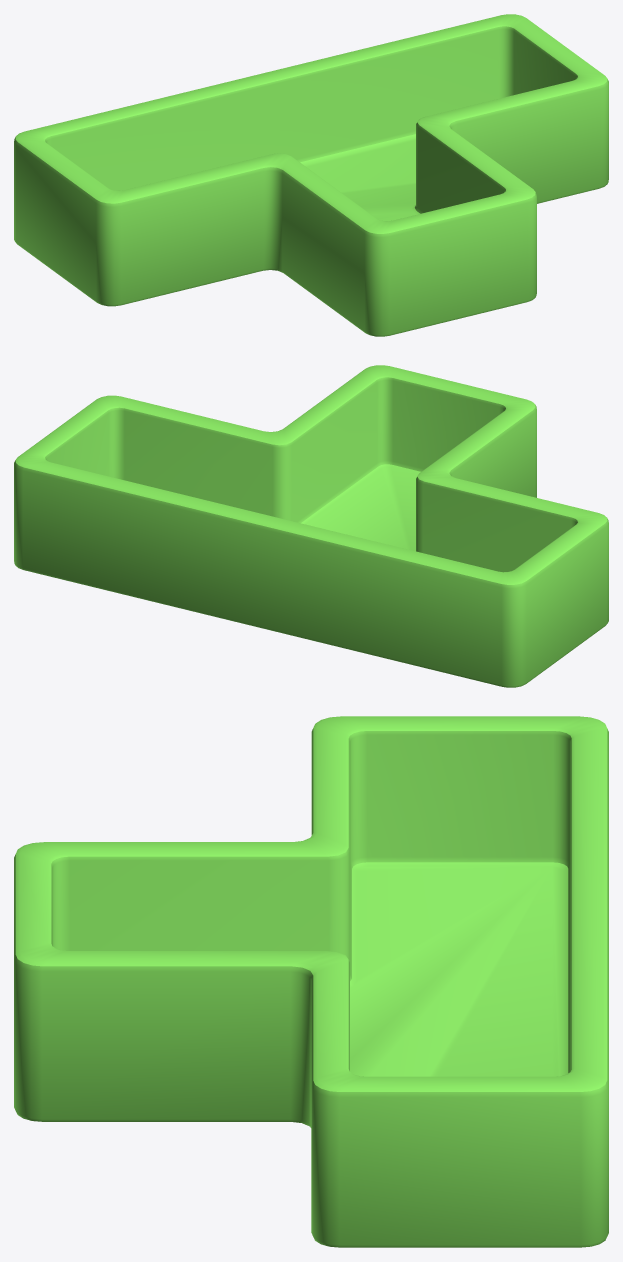
3 views of the same model, one above another, from view 1: azimuth 30°, elevation 25°; view 2: azimuth 150°, elevation 25°; view 3: azimuth 270°, elevation 25° (orthographic). The views are drawn at different scales.
Visible parts, largest first — view 1: Shape_T4; view 2: Shape_T4; view 3: Shape_T4.
Boxes of the visible parts, x1,y1,x2,y2 form: Shape_T4: (14, 14, 608, 336); Shape_T4: (14, 365, 608, 687); Shape_T4: (14, 716, 608, 1247).
Size of the model in its own units: 2.55 by 0.5 by 1.7.
